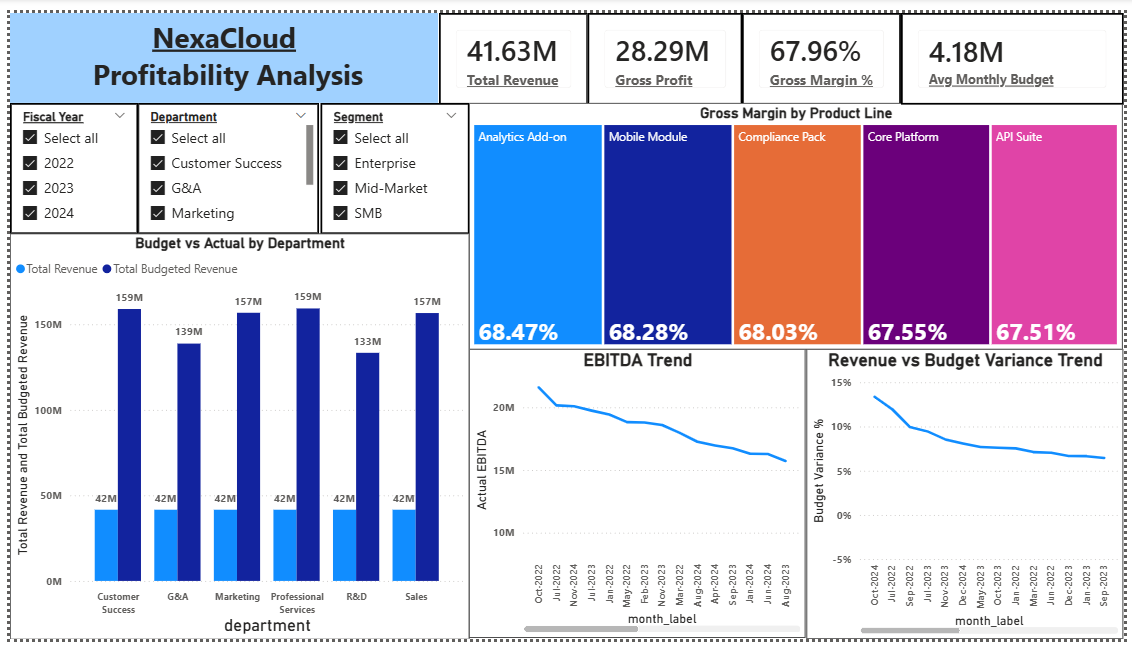

What the dashboard file says about the page in this screenshot:
{"tool":"powerbi","page":{"name":"Profitability","canvas":[1280,720],"ordinal":3},"visuals":[{"type":"textbox","box":[0,0,492.2,103.6],"z":0},{"type":"cardVisual","fields":{"Data":["Revenue_Measures.Total Revenue"]},"box":[492.2,0,171.6,105.2],"z":1},{"type":"cardVisual","fields":{"Data":["Revenue_Measures.Gross Profit"]},"box":[663.9,0,178.1,105.2],"z":2},{"type":"cardVisual","fields":{"Data":["Revenue_Measures.Gross Margin %"]},"box":[842,0,183,105.2],"z":3},{"type":"slicer","fields":{"Values":["finops360 fact_budget_vs_actual.department"]},"box":[147.3,103.6,208.9,150.6],"z":4},{"type":"slicer","fields":{"Values":["finops360 fact_transactions.segment"]},"box":[356.2,103.6,171.6,150.6],"z":5},{"type":"slicer","fields":{"Values":["finops360 dim_date.fiscal_year"]},"box":[0,103.6,147.3,150.6],"z":6},{"type":"clusteredColumnChart","title":"Budget vs Actual by Department","fields":{"Category":["finops360 fact_budget_vs_actual.department"],"Y":["Revenue_Measures.Total Revenue","Revenue_Measures.Total Budgeted Revenue"]},"box":[0,254.2,527.9,466.3],"z":7},{"type":"treemap","title":"Gross Margin  by Product Line","fields":{"Group":["finops360 dim_product.product_line"],"Values":["Revenue_Measures.Gross Margin %"]},"box":[527.9,103.6,751.3,283.4],"z":8},{"type":"lineChart","title":"EBITDA Trend","fields":{"Category":["finops360 fact_budget_vs_actual.month_label"],"Y":["Revenue_Measures.Actual EBITDA"]},"box":[527.9,387,387,331.9],"z":9},{"type":"lineChart","title":"Revenue vs Budget Variance Trend","fields":{"Category":["finops360 fact_budget_vs_actual.month_label"],"Y":["Revenue_Measures.Budget Variance %"]},"box":[914.9,387,364.3,333.6],"z":10},{"type":"cardVisual","fields":{"Data":[" Customer Measures.Avg Monthly Budget"]},"box":[1025,0,255.8,105.2],"z":11}]}

Visuals, with their boxes in screenshot pixels (x1, y1, x2, y2), scaled from the page's 1280x720 canvas onto the 1132x646 screenshot:
textbox: <box>0,0,435,93</box>
cardVisual - Revenue_Measures.Total Revenue: <box>435,0,587,94</box>
cardVisual - Revenue_Measures.Gross Profit: <box>587,0,745,94</box>
cardVisual - Revenue_Measures.Gross Margin %: <box>745,0,906,94</box>
slicer - finops360 fact_budget_vs_actual.department: <box>130,93,315,228</box>
slicer - finops360 fact_transactions.segment: <box>315,93,467,228</box>
slicer - finops360 dim_date.fiscal_year: <box>0,93,130,228</box>
"Budget vs Actual by Department" clusteredColumnChart: <box>0,228,467,645</box>
"Gross Margin  by Product Line" treemap: <box>467,93,1131,347</box>
"EBITDA Trend" lineChart: <box>467,347,809,645</box>
"Revenue vs Budget Variance Trend" lineChart: <box>809,347,1131,645</box>
cardVisual -  Customer Measures.Avg Monthly Budget: <box>906,0,1131,94</box>
